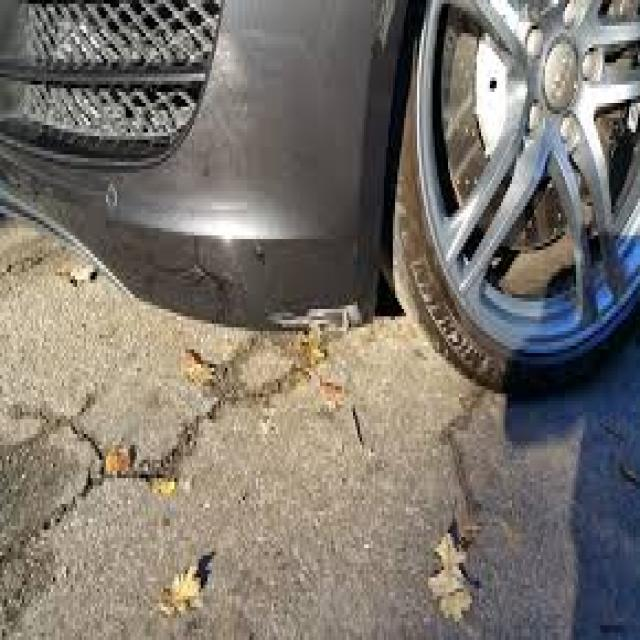minor: (127, 207, 390, 386)
